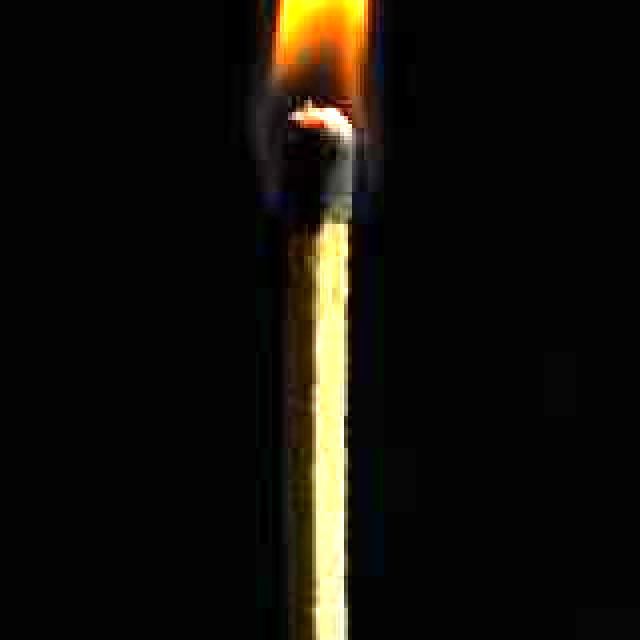fire: (264, 0, 400, 160)
